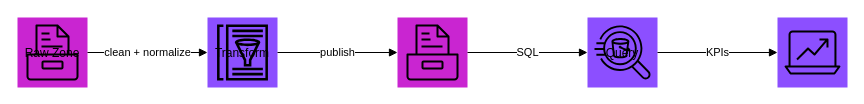
The diagram is 864 pixels wide and 104 high, and some of its shapes have lost their labels. The box of each missing label's shape, as (x1, y1, x2, y2) in pixels:
Curated Zone: (397, 17, 467, 87)
Dashboard: (777, 17, 847, 87)
